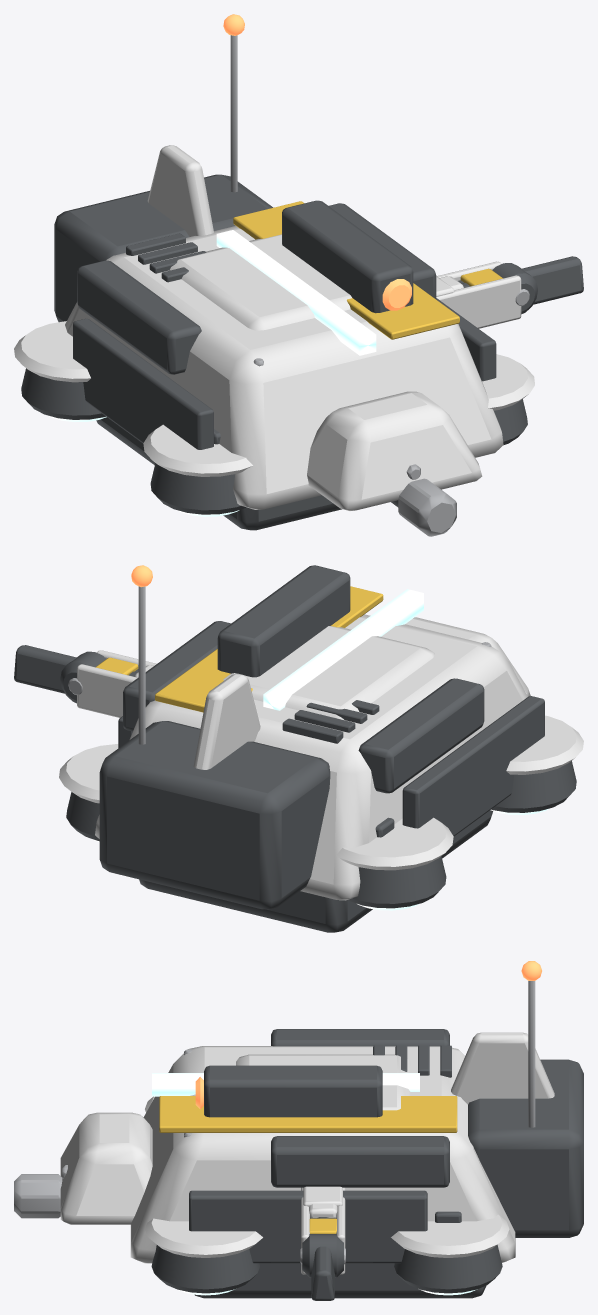
The model's file is rifle.glb.
3 views of the same model, one above another, from view 1: azimuth 30°, elevation 25°; view 2: azimuth 150°, elevation 25°; view 3: azimuth 270°, elevation 25° (orthographic). The views are drawn at different scales.
Visible parts, largest first — view 1: Hull, Turret, LegUpper, Barrel, LegLower; view 2: Hull, Turret, LegUpper, LegLower; view 3: Hull, Turret, LegUpper, Barrel, LegLower.
Boxes of the visible parts, x1,y1,x2,y2 form: Hull: (14,14,534,530); Turret: (169,200,413,330); LegUpper: (436,261,537,328); Barrel: (391,464,456,536); LegLower: (439,256,583,304); Hull: (59,565,583,932); Turret: (217,565,434,719); LegUpper: (60,650,156,717); LegLower: (14,645,154,693); Hull: (60,961,583,1298); Turret: (195,1054,410,1117); LegUpper: (300,1186,345,1277); Barrel: (14,1165,67,1218); LegLower: (309,1204,337,1300).
Size of the model in its own units: 0.7124 by 0.484 by 0.765.
